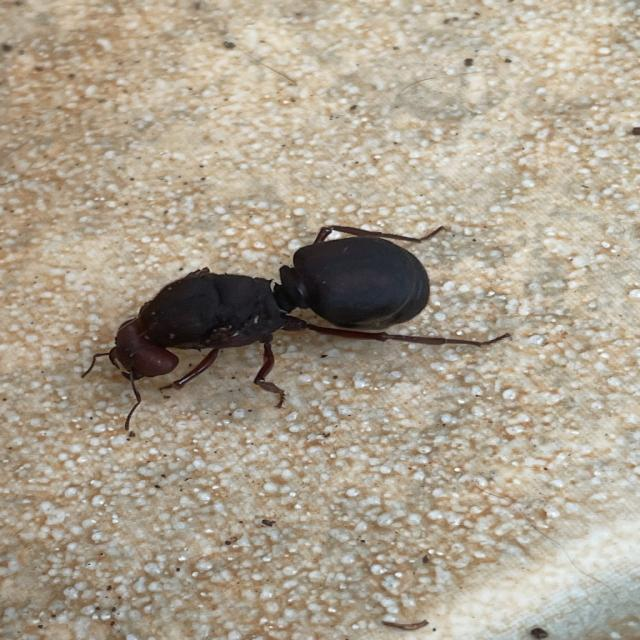Alive-Female-Dealate: (80, 225, 510, 431)
